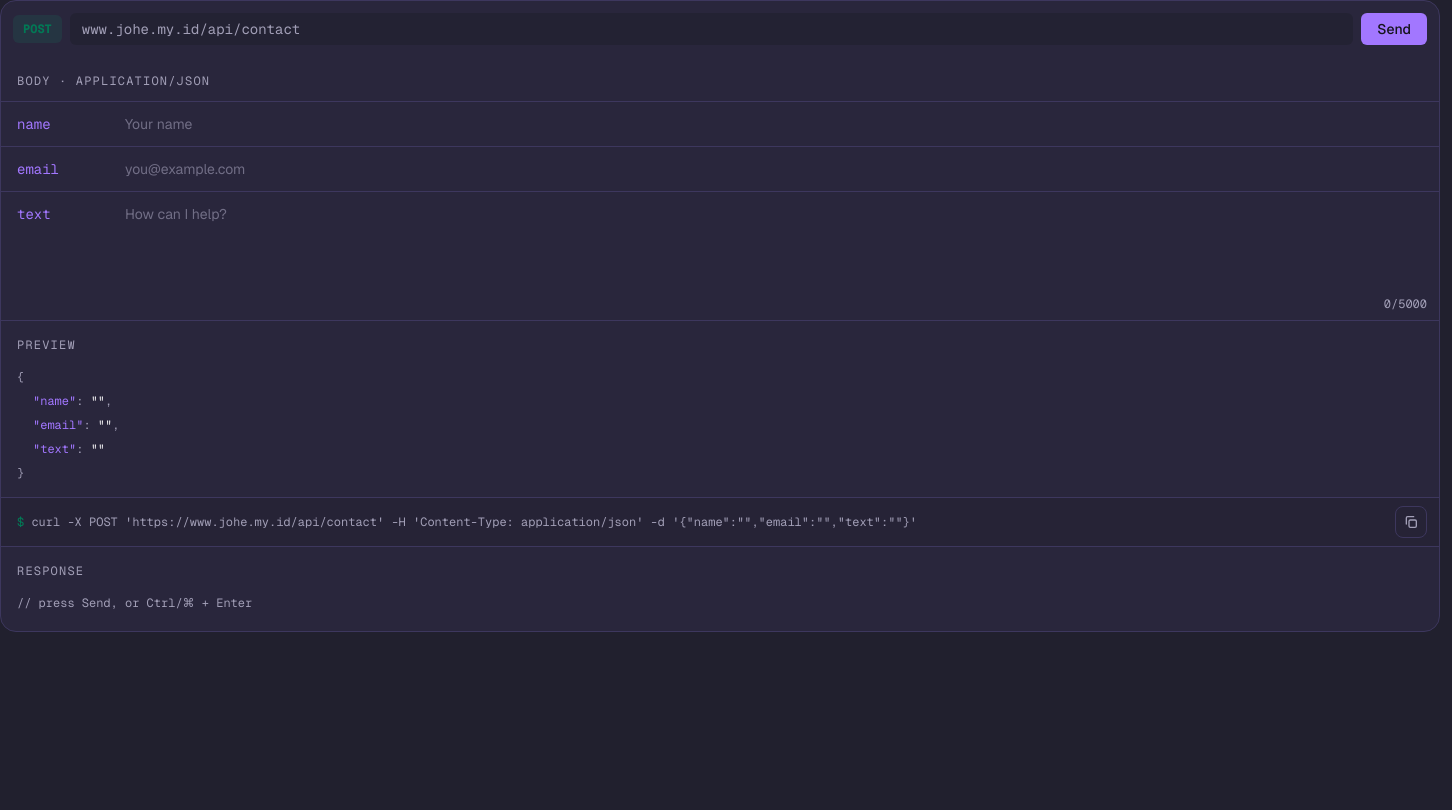
Scenario: sending › shows a refused request as it is, and leaves the form open to fix and send again
Type "Ada" into the field named "Your name" at (776, 124), box [113,102,1439,146]
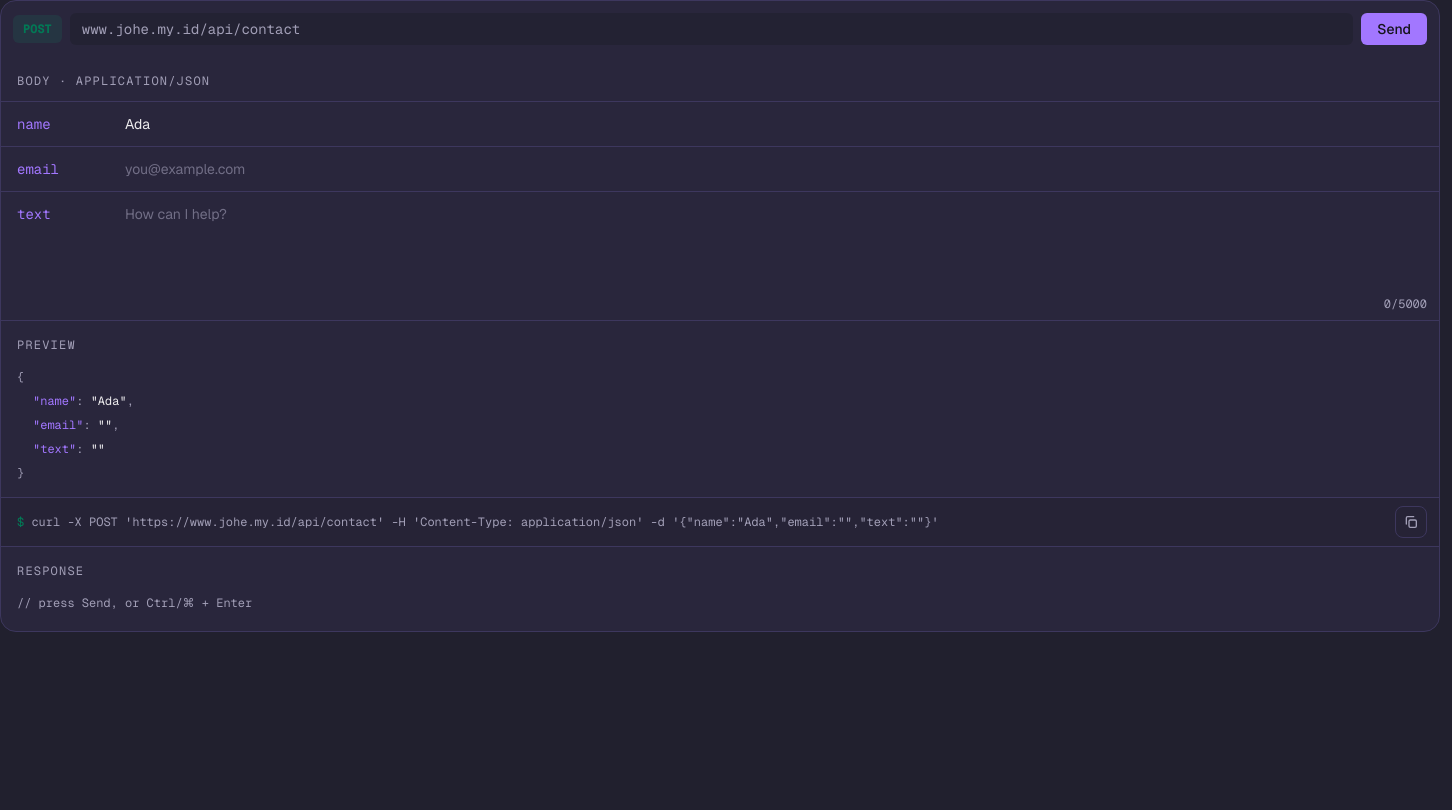
Type "ada@example.com" into the field named "Your email" at (776, 169), box [113,147,1439,191]
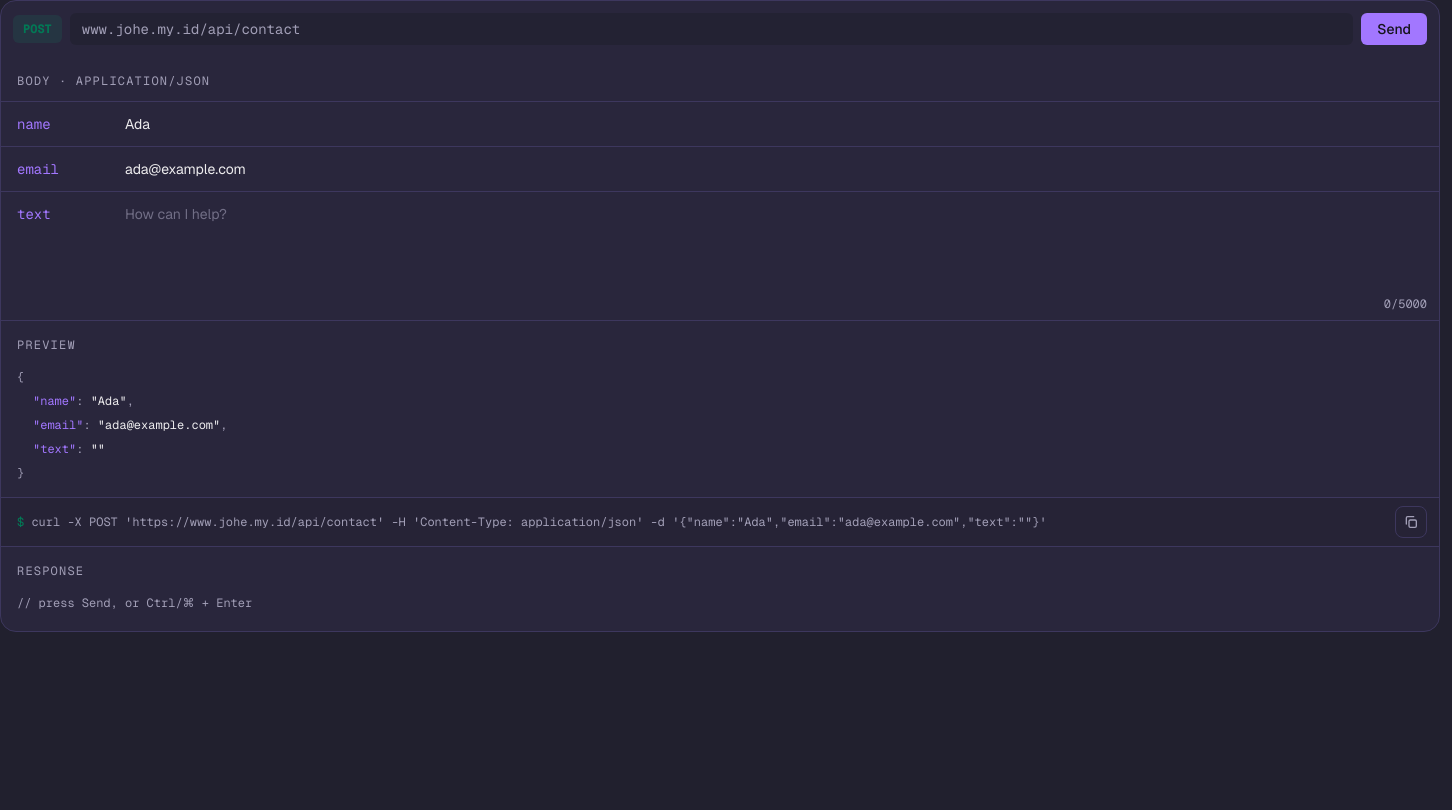
Type "Hello there" into the text box named "Message text" at (776, 244), box [113,192,1439,296]
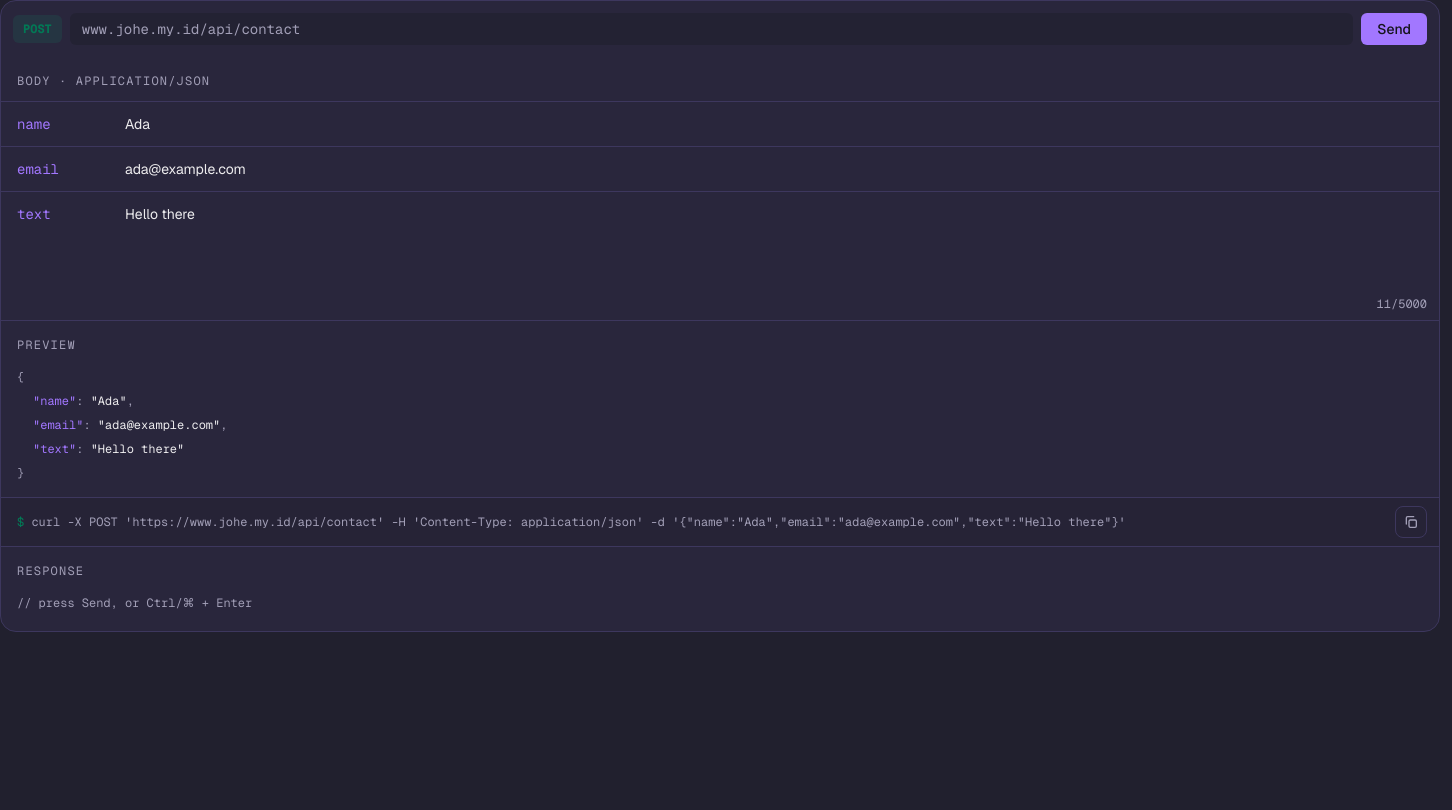
Click the button "Send" at (1394, 29), box [1361,13,1427,45]
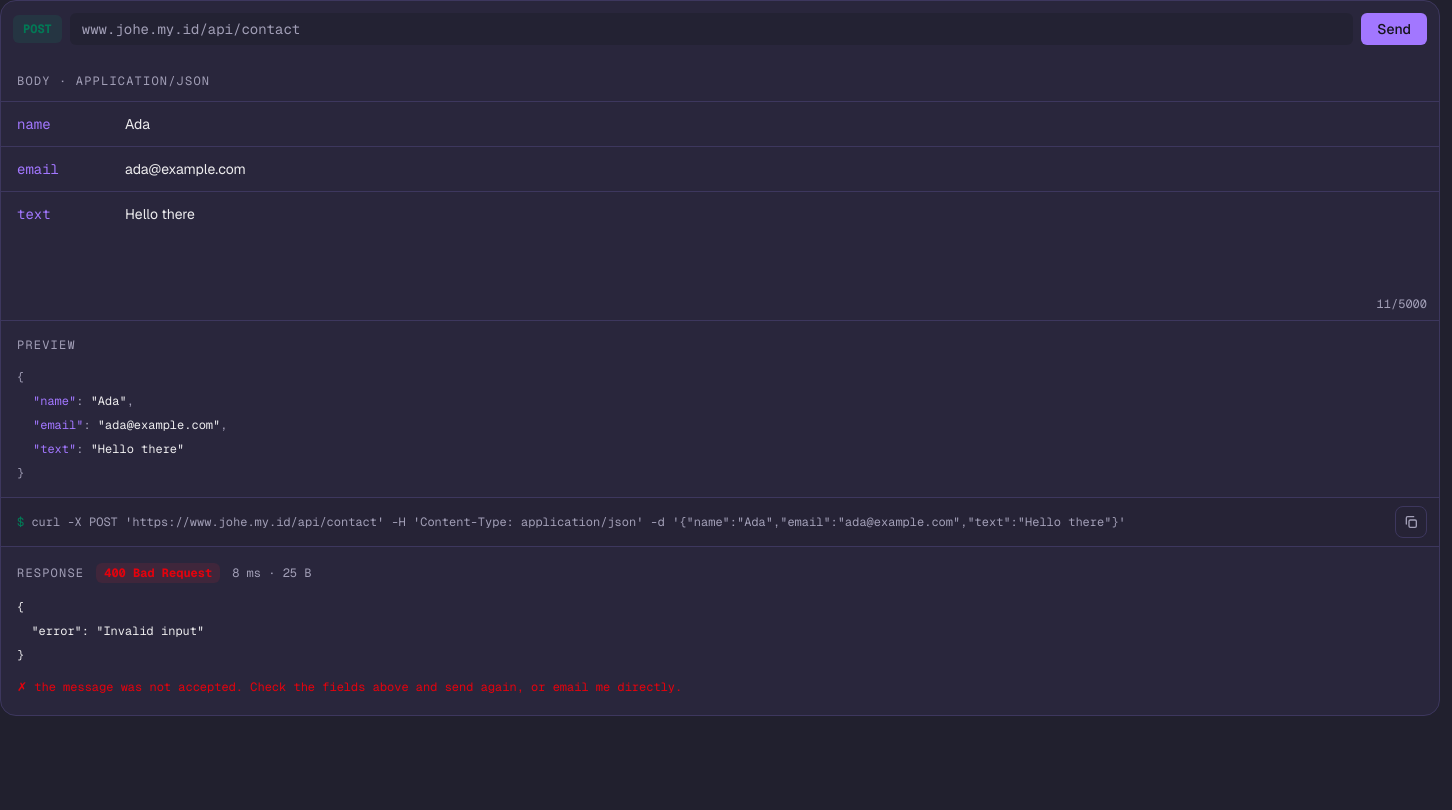
Result: the text "400 Bad Request" is shown at [96,563,220,583]
Result: the text "{ \"error\": \"Invalid input\" }" is shown at [17,599,204,663]
Result: the text "message was not accepted" is shown at [17,679,682,695]
